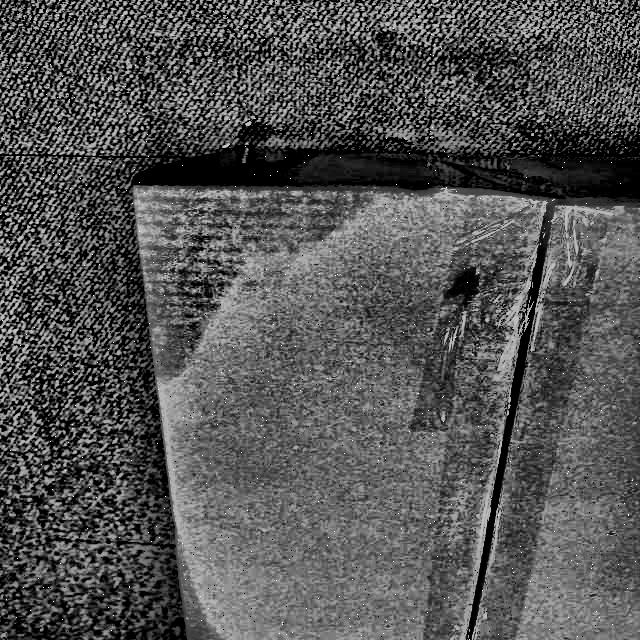box: (130, 143, 640, 640)
wet: (133, 170, 340, 380)
